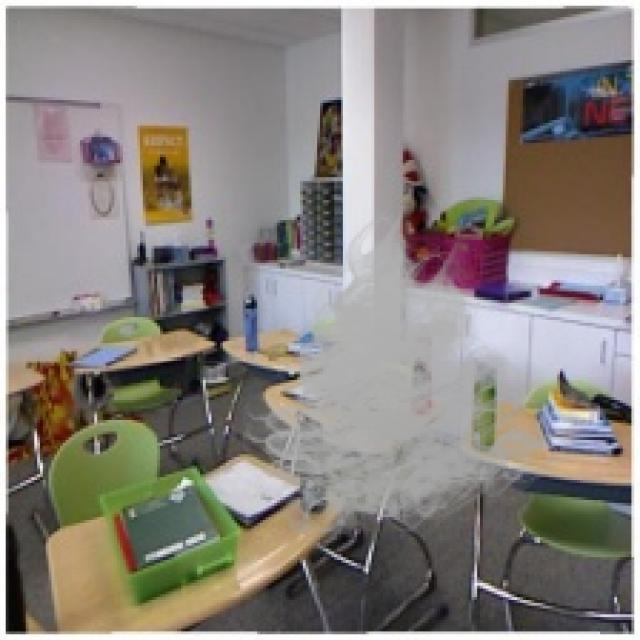Smoke: (232, 205, 588, 558)
